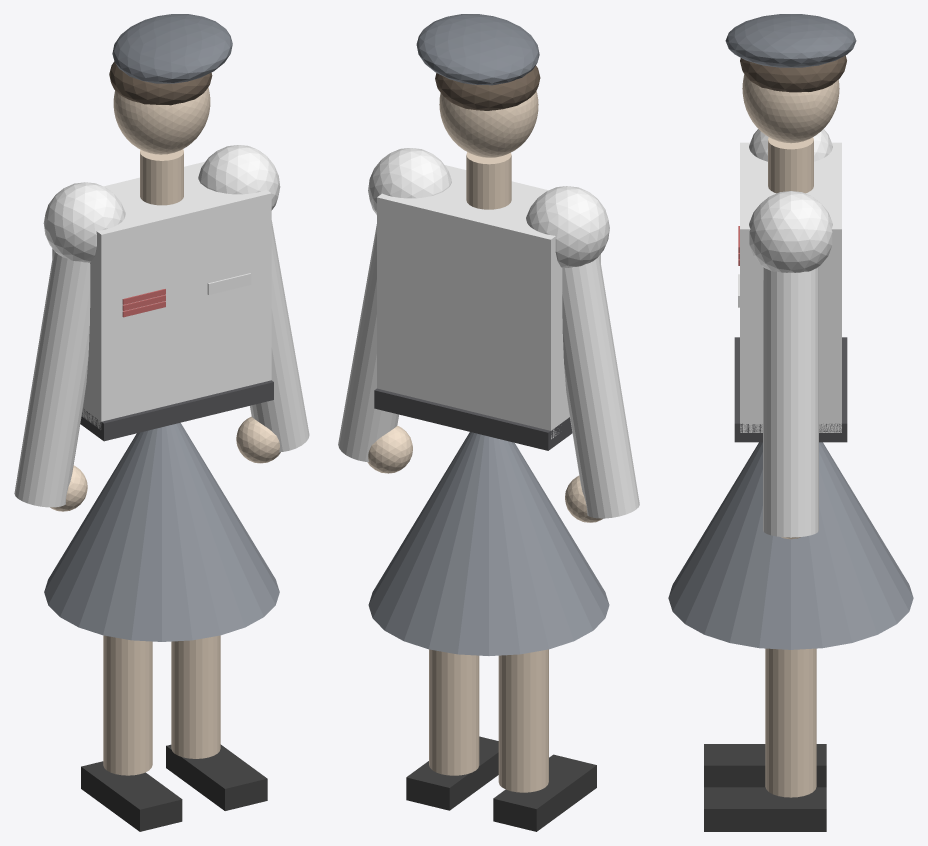
Rendered from female_apose.glb.
3 renders of one model, left to right at view 1: azimuth 30°, elevation 25°; view 2: azimuth 150°, elevation 25°; view 3: azimuth 270°, elevation 25°, orthographic. The views are drawn at different scales.
Visible parts, largest first — view 1: torso, skirt, arm_left, leg_left, beret, leg_right, arm_right, shoulder_left, shoe_left, head, shoe_right, belt (+6 smaller); view 2: torso, skirt, arm_left, leg_left, beret, leg_right, arm_right, shoulder_left, shoe_left, belt, head, shoulder_right (+5 smaller); view 3: skirt, arm_right, torso, leg_right, shoulder_right, beret, shoe_right, head, shoe_left, hair, neck, belt (+1 smaller).
Boxes of the visible parts, x1,y1,x2,y2 form: torso: [52, 161, 271, 429]; skirt: [44, 422, 279, 641]; arm_left: [14, 250, 90, 507]; leg_left: [103, 635, 152, 775]; beret: [112, 14, 232, 83]; leg_right: [171, 635, 220, 758]; arm_right: [250, 220, 309, 452]; shoulder_left: [43, 182, 125, 262]; shoe_left: [81, 761, 182, 831]; head: [113, 87, 210, 154]; shoe_right: [166, 744, 267, 810]; belt: [80, 380, 273, 441]; torso: [377, 165, 600, 439]; skirt: [368, 432, 609, 655]; arm_left: [562, 255, 639, 518]; leg_left: [498, 649, 548, 792]; beret: [416, 14, 539, 85]; leg_right: [429, 649, 479, 775]; arm_right: [338, 224, 398, 461]; shoulder_left: [526, 186, 609, 268]; shoe_left: [493, 754, 596, 831]; belt: [374, 388, 572, 450]; head: [439, 91, 538, 157]; shoulder_right: [368, 148, 451, 214]; skirt: [668, 442, 913, 649]; arm_right: [763, 267, 818, 537]; torso: [740, 142, 841, 432]; leg_right: [765, 648, 816, 797]; shoulder_right: [749, 191, 832, 272]; beret: [725, 14, 856, 67]; shoe_right: [704, 787, 826, 831]; head: [742, 74, 839, 143]; shoe_left: [704, 744, 826, 787]; hair: [740, 55, 846, 92]; neck: [768, 137, 813, 193]; belt: [734, 337, 847, 442].
Size of what is drawn, in the model's own units: 0.6767 by 1.69 by 0.48.
9 materials, 1 textured.
